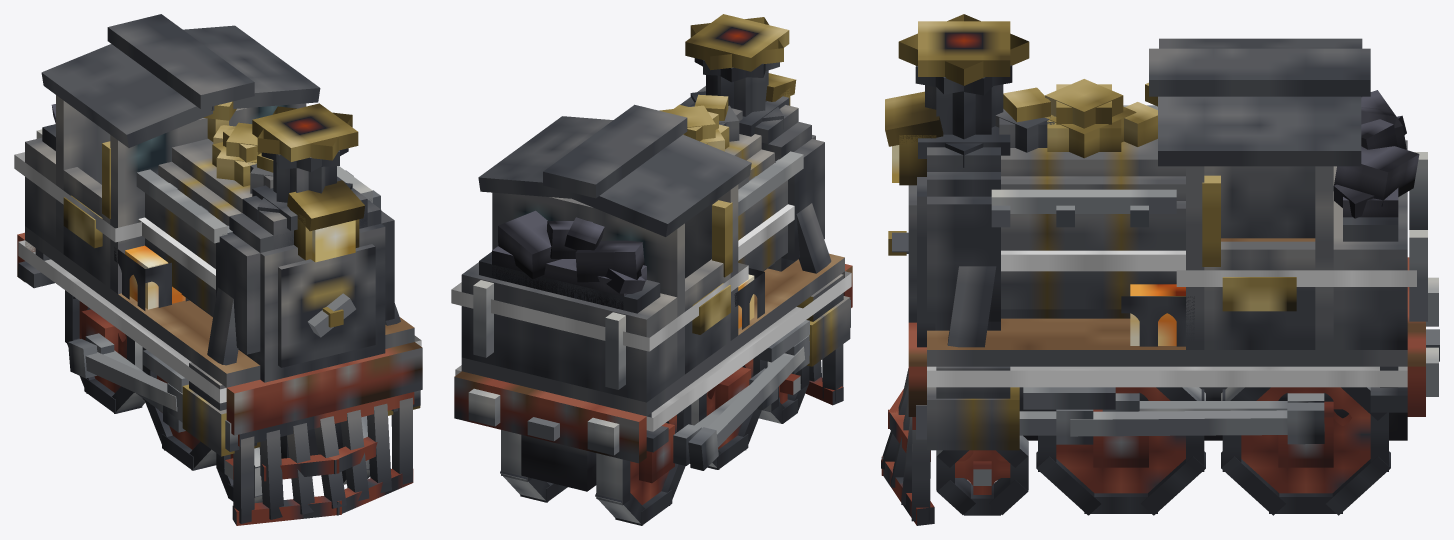
Rendered from locomotive.obj.
3 views of the same model, side by side, from view 1: azimuth 30°, elevation 25°; view 2: azimuth 150°, elevation 25°; view 3: azimuth 270°, elevation 25° (orthographic). The views are drawn at different scales.
Parts seen in each view (by area): view 1: beam_front, cab_roof_r, smokebox_door, cab_ridge, footplate, cab, door_ring, smokebox, cab_roof_l, trim, stack_crown, cab_back (+52 smaller); view 2: bunker, cab_roof_r, footplate, beam_back, cab_ridge, cab_back, cab_roof_l, trim, trim_band, stack_crown, chassis, coal (+49 smaller); view 3: cab_roof_l, footplate, boiler, cab_ridge, trim, cab_side, bunker, cab_side_mirror, smokebox, wheel_bl, mainrod_l, cylinder_l (+65 smaller).
Boxes of the visible parts, x1,y1,x2,y2 form: beam_front: (226,342,422,435); cab_roof_r: (41,44,212,147); smokebox_door: (278,244,375,367); cab_ridge: (107,14,254,108); footplate: (25,226,414,387); cab: (110,103,306,294); door_ring: (256,223,385,382); smokebox: (216,211,394,354); cab_roof_l: (183,25,320,110); trim: (18,240,421,403); stack_crown: (252,103,358,161); cab_back: (56,95,110,253); bunker: (461,262,677,402); cab_roof_r: (561,134,751,236); footplate: (461,253,844,416); beam_back: (454,371,646,463); cab_ridge: (543,104,687,198); cab_back: (492,192,684,379); cab_roof_l: (478,116,613,198); trim: (455,271,851,431); trim_band: (451,263,748,351); stack_crown: (685,14,789,71); chassis: (521,435,596,491); coal: (492,246,646,310); cab_roof_l: (1158,96,1361,166); footplate: (927,318,1407,366); boiler: (1001,201,1185,309); cab_ridge: (1149,48,1370,96); trim: (927,366,1407,387); cab_side: (1204,241,1315,349); bunker: (1333,140,1407,349); cab_side_mirror: (1204,166,1315,238); smokebox: (927,196,1000,321); wheel_bl: (1241,387,1370,493); mainrod_l: (1070,410,1287,436); cylinder_l: (927,387,1019,450).
Size of the model in its own units: 15.2 by 26.2 by 30.24.
1 material, 1 textured.
